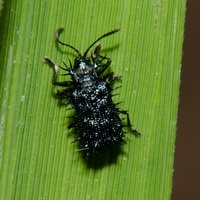insect: (44, 28, 139, 158)
